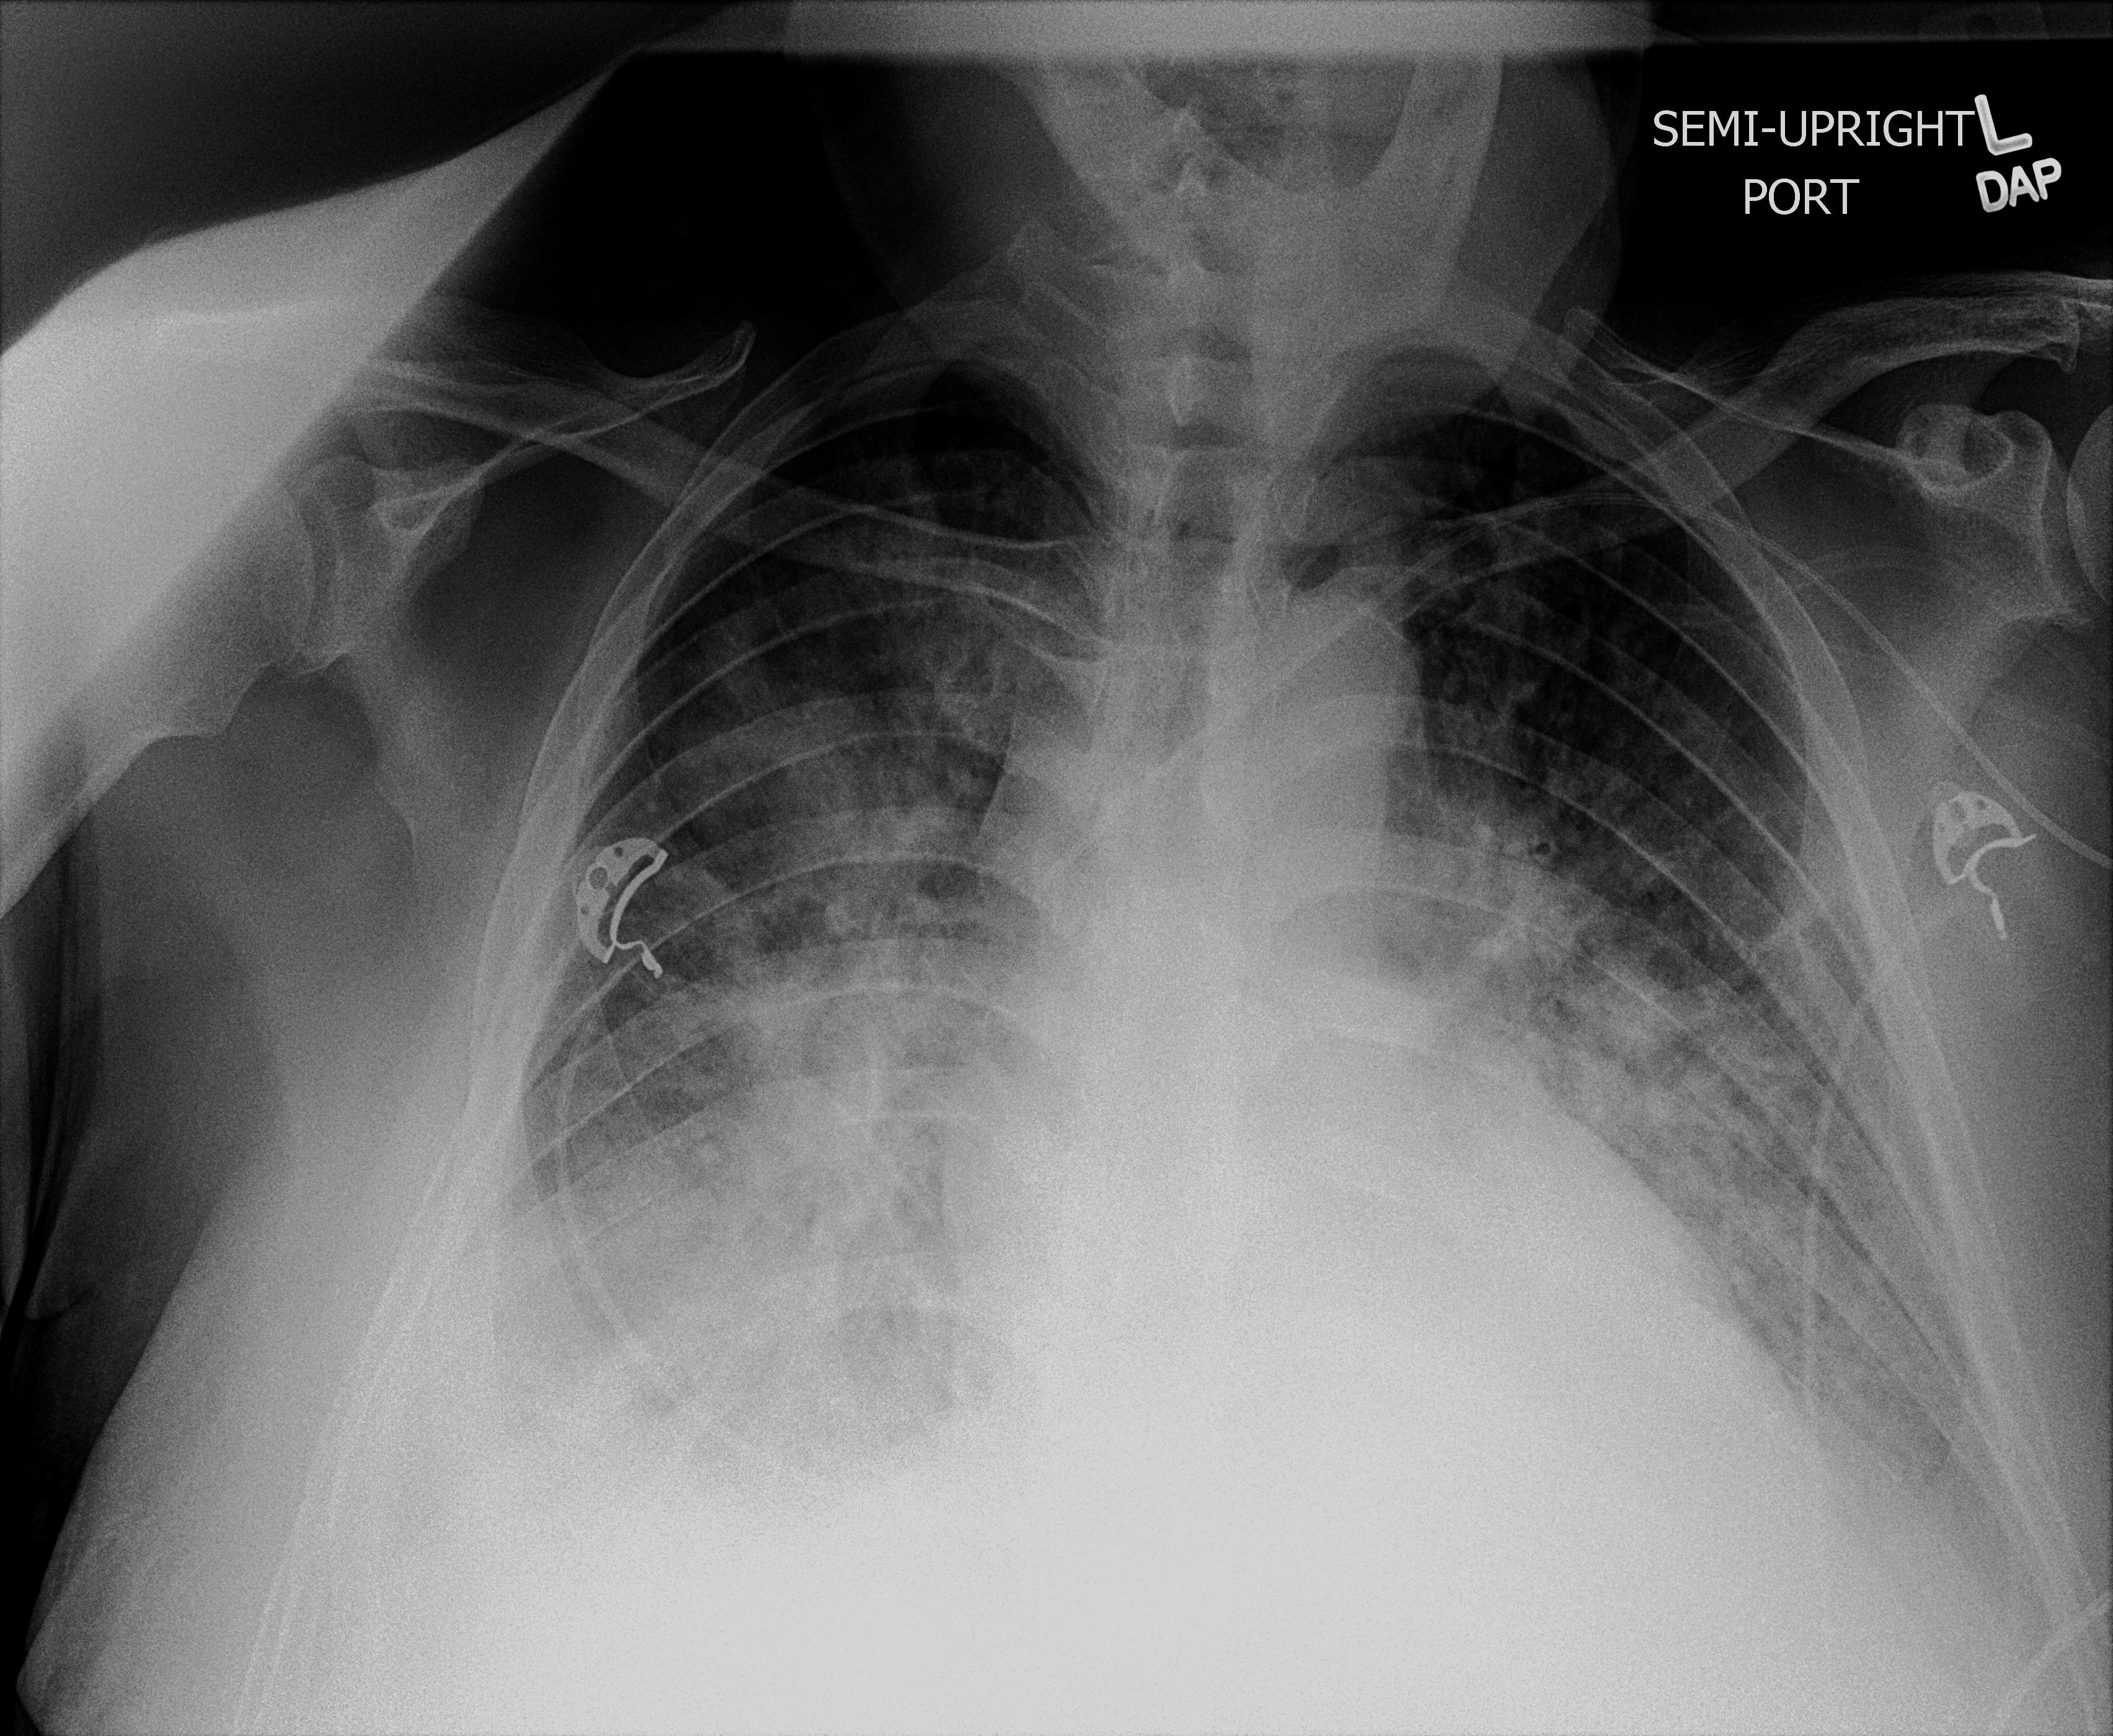Pleural Effusion: (344, 1195, 918, 1611), (1637, 1266, 2097, 1694)
